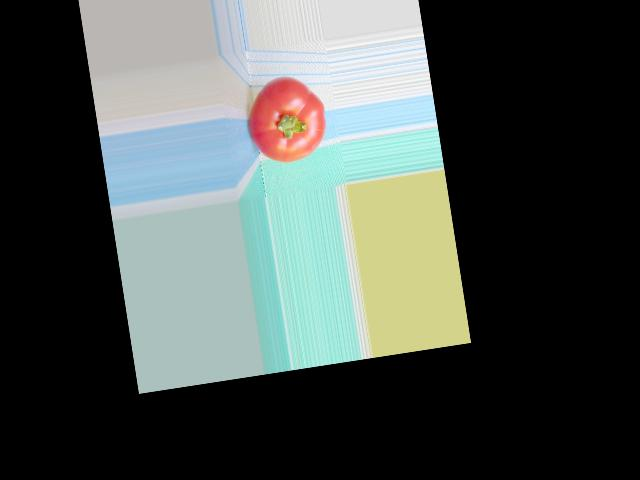tomato: (242, 71, 331, 167)
